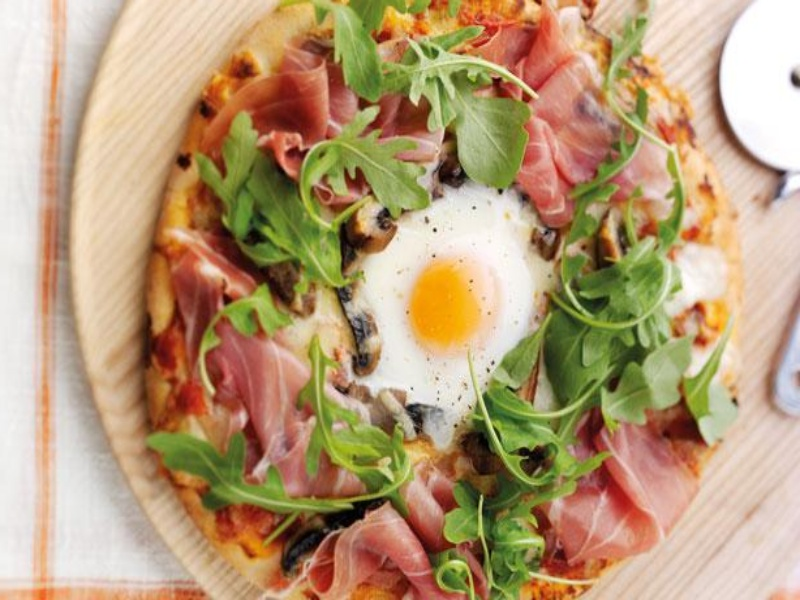oeuf: (387, 253, 507, 373)
